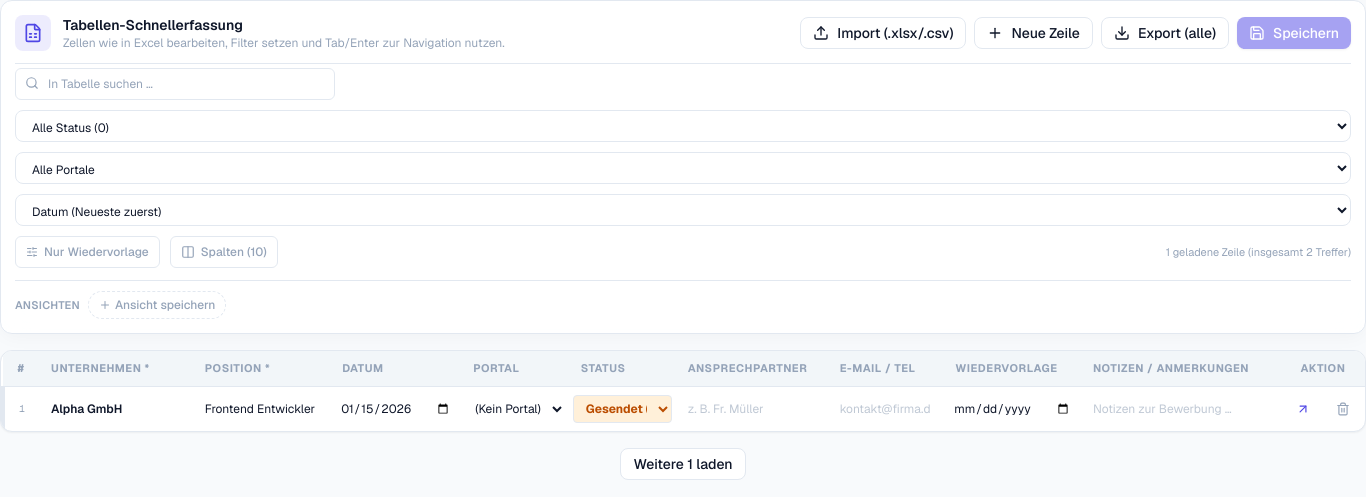
Test: ExcelGridTable › löst die Volltextsuche erst debounced auf dem Server aus, nicht auf den bereits geladenen Zeilen
The width and height of the screenshot is (1366, 497).
expect the 1st field showing "Alpha GmbH" is shown: met, box [43, 397, 189, 421]
Type "Gamma" into the field with placeholder "In Tabelle suchen …".
click(175, 84); type("Gamma")  # box [15, 68, 335, 100]
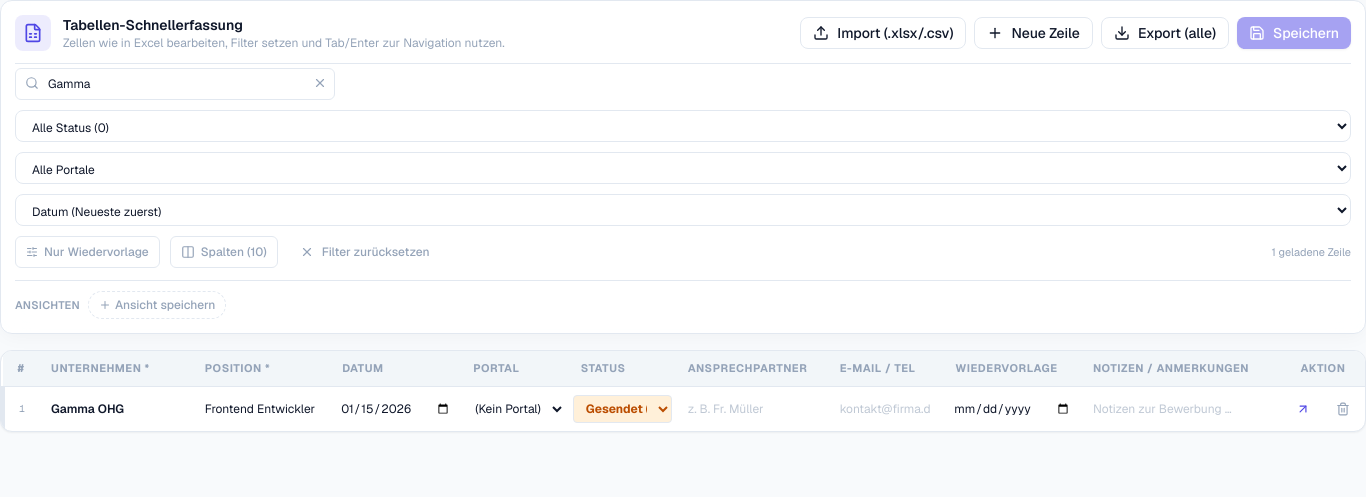
expect the 1st field showing "Gamma OHG" is shown: met, box [43, 397, 189, 421]
